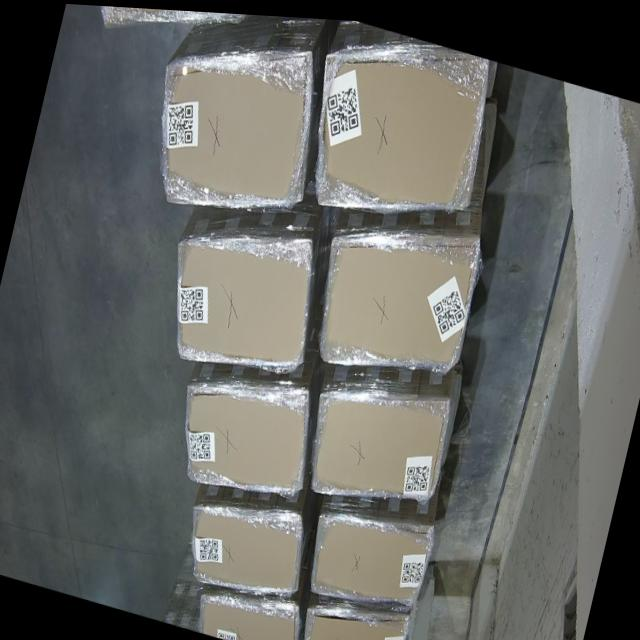pallet: (167, 45, 312, 203), (319, 237, 478, 365), (172, 238, 312, 361), (309, 389, 450, 495), (186, 389, 310, 481), (312, 512, 432, 597), (192, 506, 298, 588), (194, 592, 298, 640), (302, 604, 411, 640)
